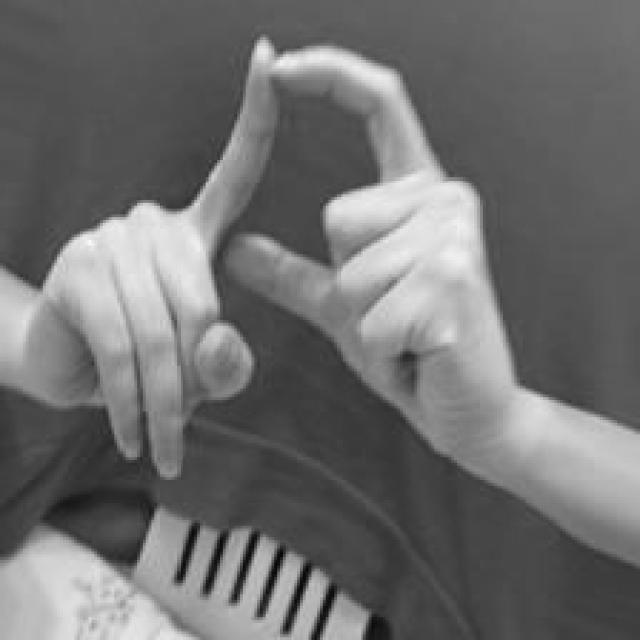D: (39, 33, 506, 480)
